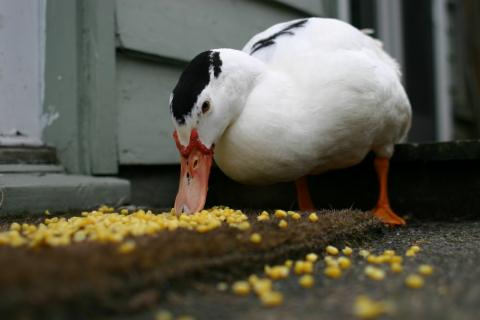corn: (0, 204, 434, 313)
